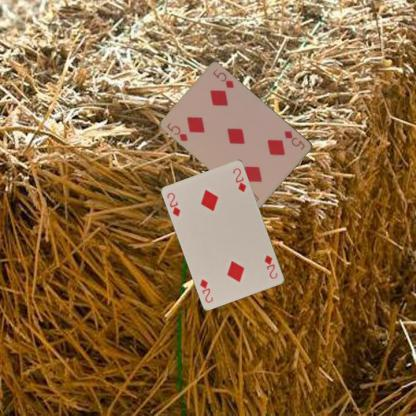2d: (165, 190, 182, 218), (262, 253, 279, 280)
5d: (282, 128, 307, 152), (164, 119, 190, 142)
